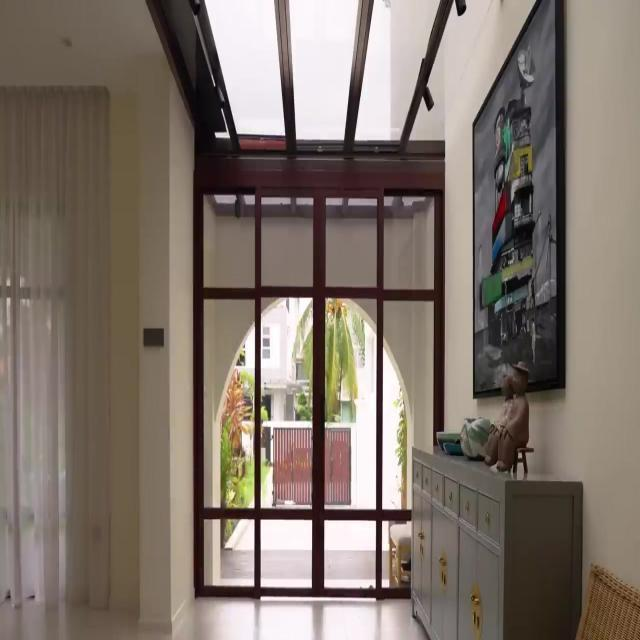door: (195, 166, 445, 593)
obstacle: (411, 445, 584, 639)
